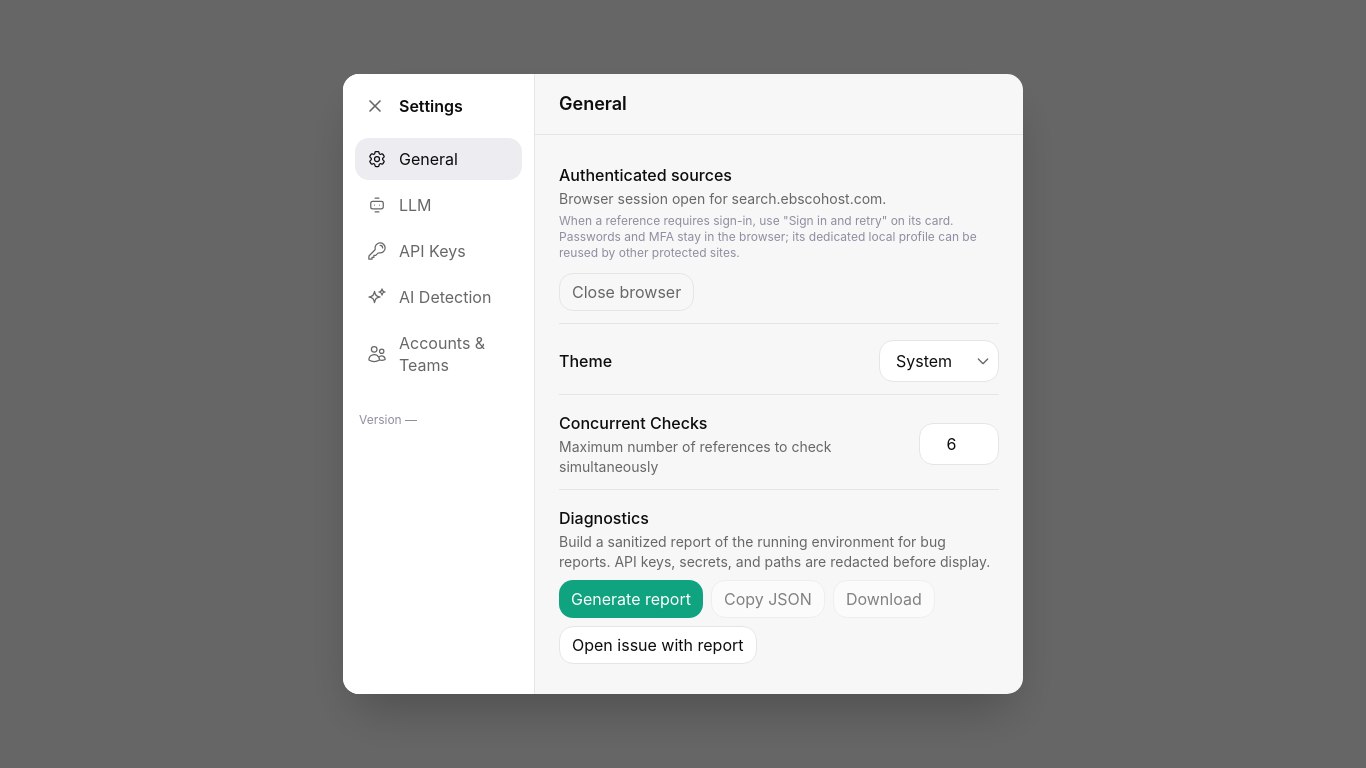
Scenario: SettingsPanel Semantic Scholar key storage › shows and closes the reusable authenticated browser session
Expected: the text "Browser session open for search.ebscohost.com." is shown, [559, 190, 886, 207]
What coordinates should you click on to do the following:
click the button "Close browser"
I would click on:
 (627, 292)
Its box is [559, 273, 694, 311].
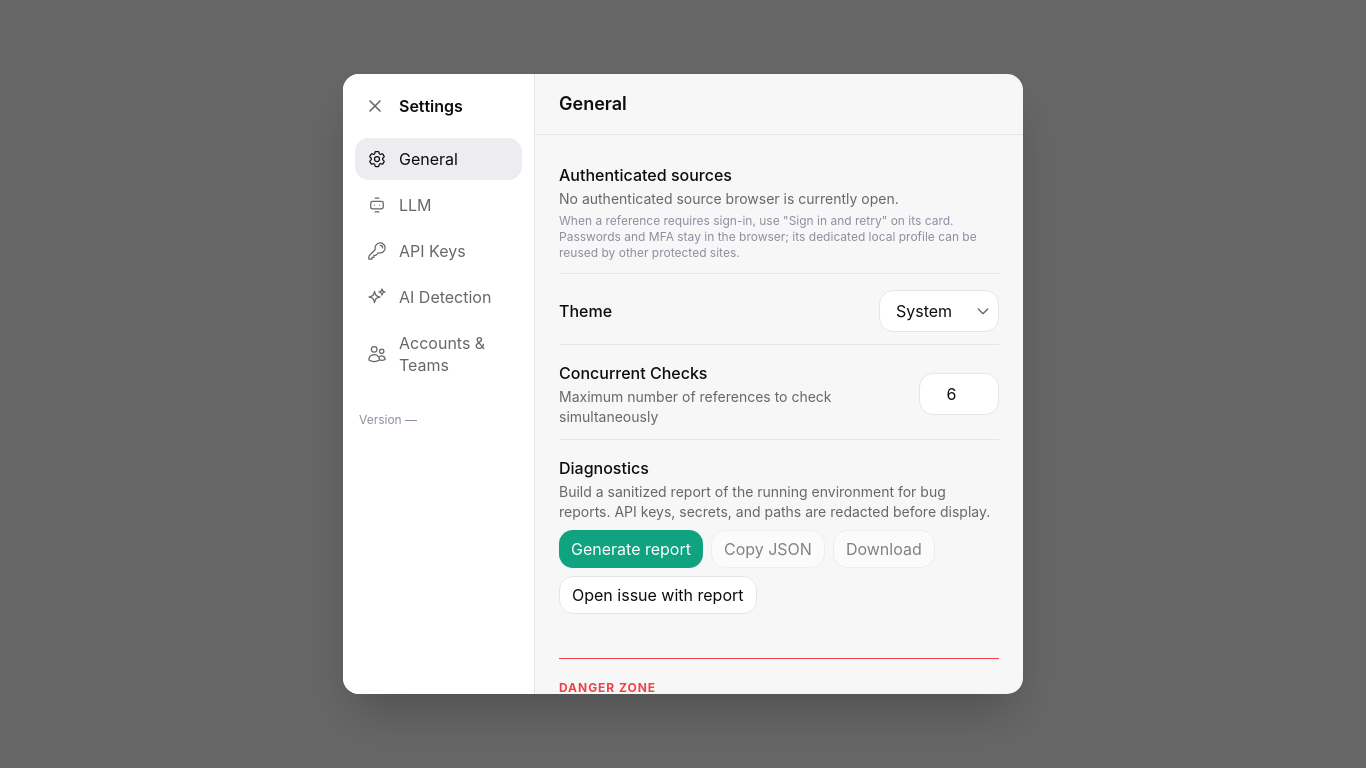
Result: the text "No authenticated source browser is currently open." is shown at [559, 190, 899, 207]
